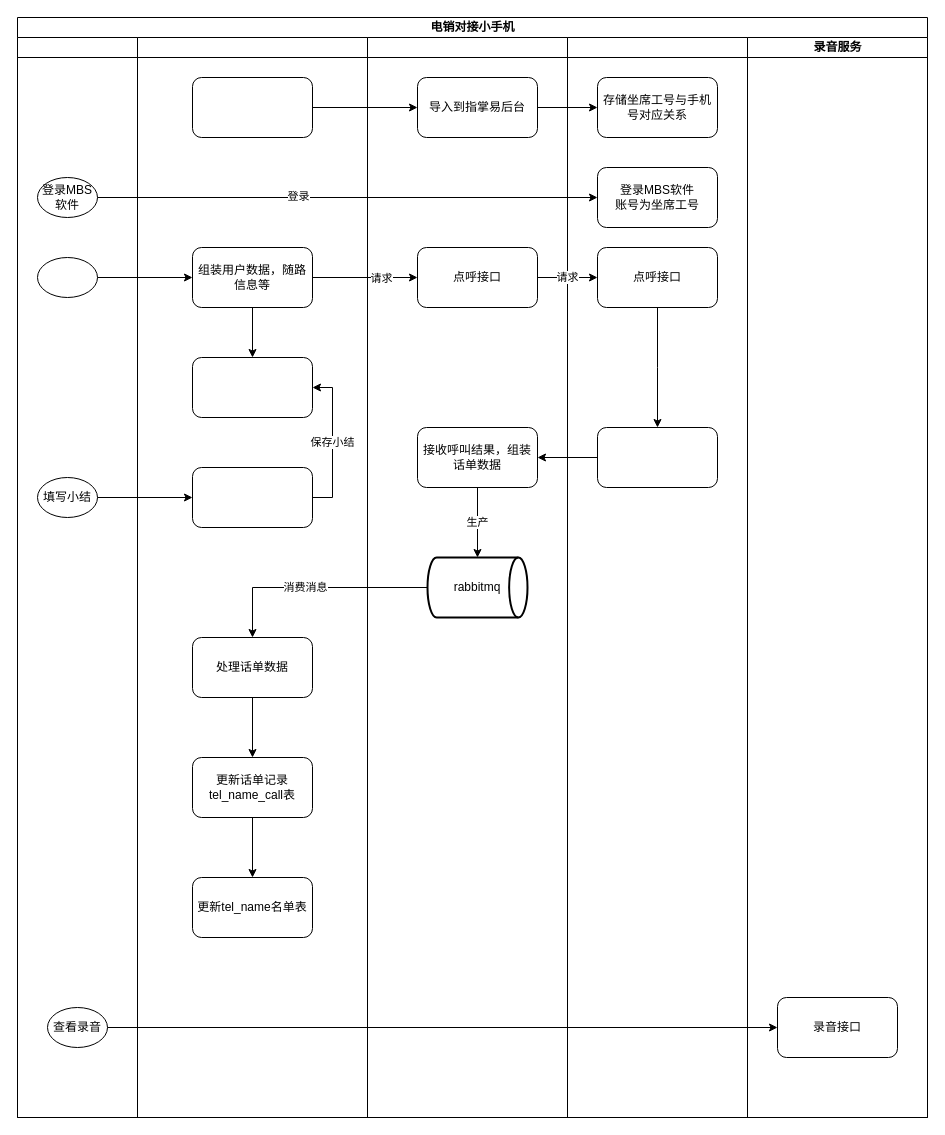
Some shapes in this 945 by 1135 pixel diagram are drawn without their labels. The box of each missing label's shape, as (x1, y1, x2, y2) in pixels:
MBS指掌易: (566, 36, 748, 1118)
保存小结到通话记录: (192, 466, 312, 528)
发起点呼: (36, 256, 98, 298)
回调呼叫结果: (596, 426, 718, 488)
坐席: (16, 36, 138, 1118)
工作手机平台: (366, 36, 568, 1118)
提供坐席信息excel文件: (192, 76, 312, 138)
电销系统: (136, 36, 368, 1118)
请求成功，添加呼叫记录数据: (192, 356, 312, 418)
